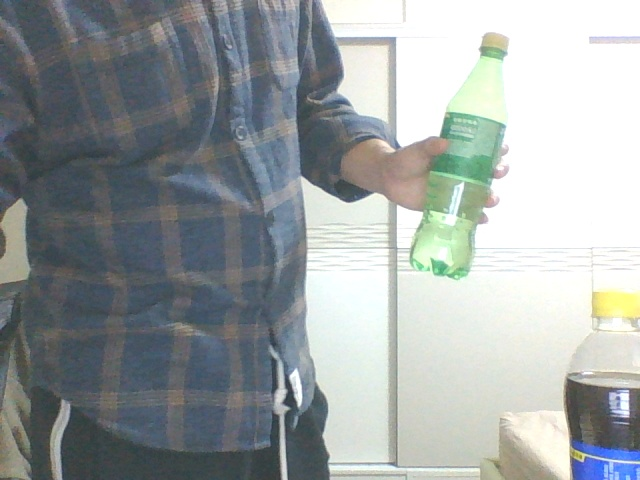Cola: (564, 291, 637, 479)
Sprite: (408, 33, 511, 279)
